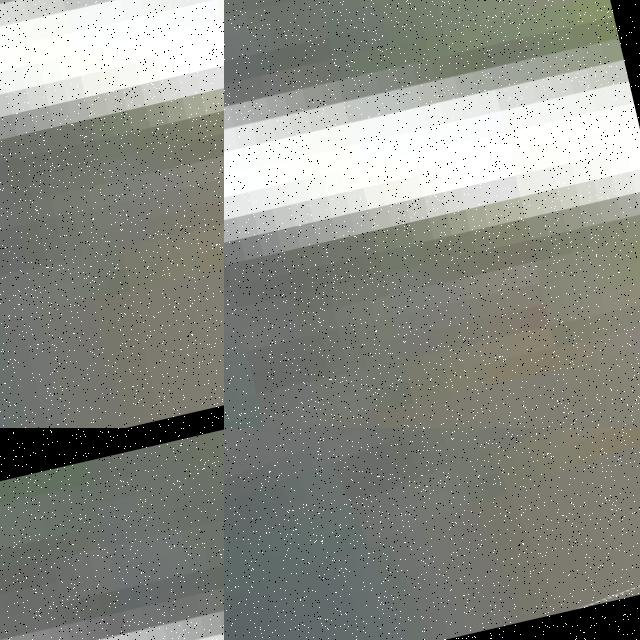drone: (224, 428, 640, 640)
